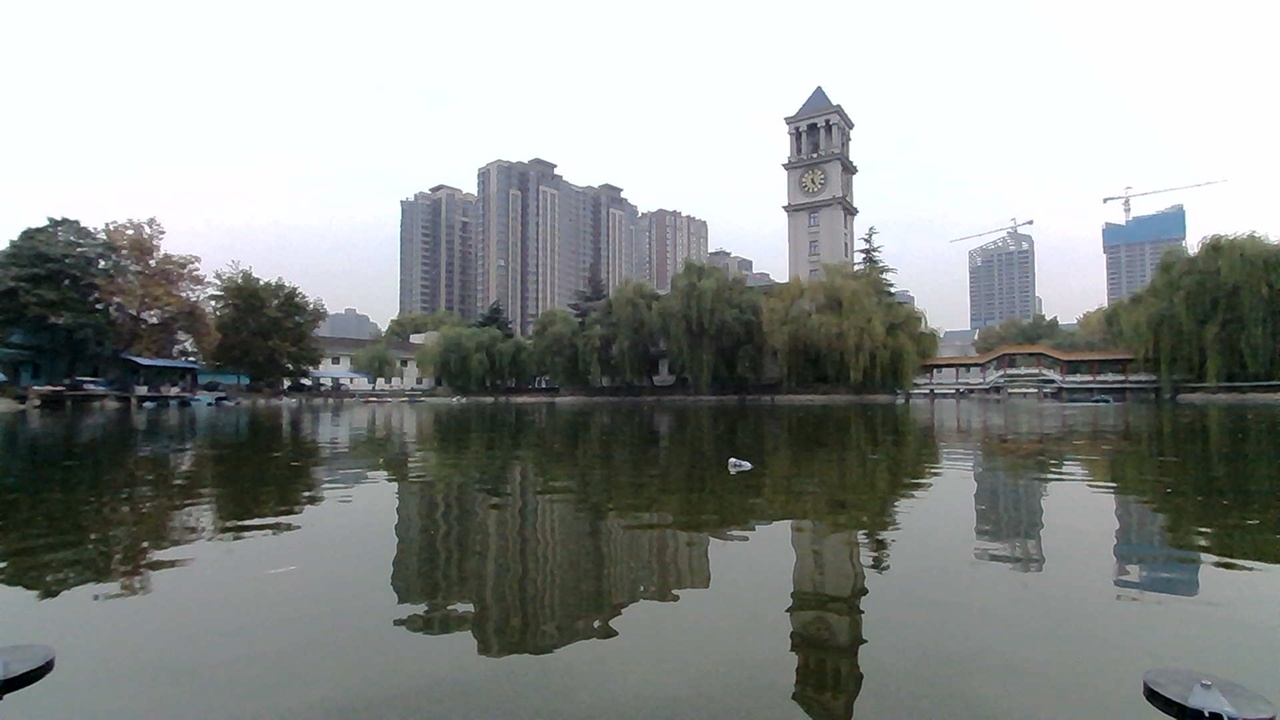bottle: (720, 448, 759, 478)
